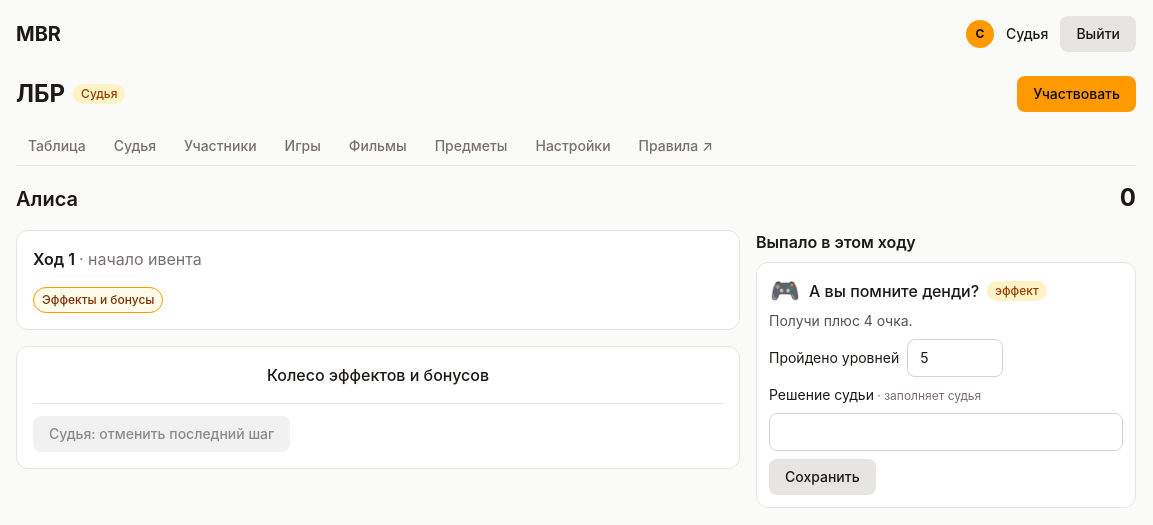
Test: item fields › shows what the player fills in meanwhile, keeping what the judge is typing
Check: the number field holds "5", box [907,339,1003,377]
Type "Засчитано" into the field.
click(946, 432); type("Засчитано")  # box [769,413,1123,451]
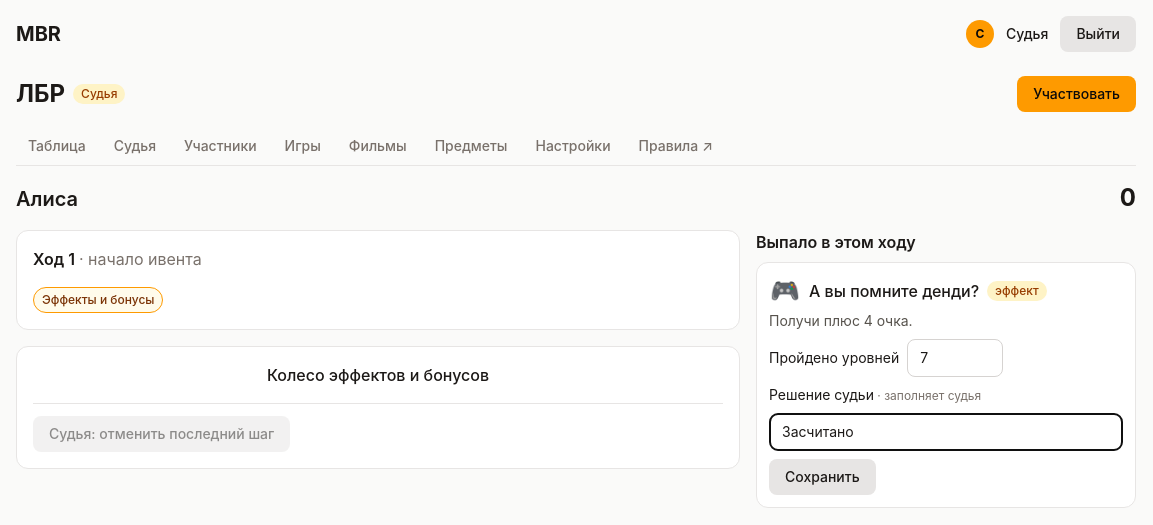
Check: the number field holds "7", box [907,339,1003,377]
